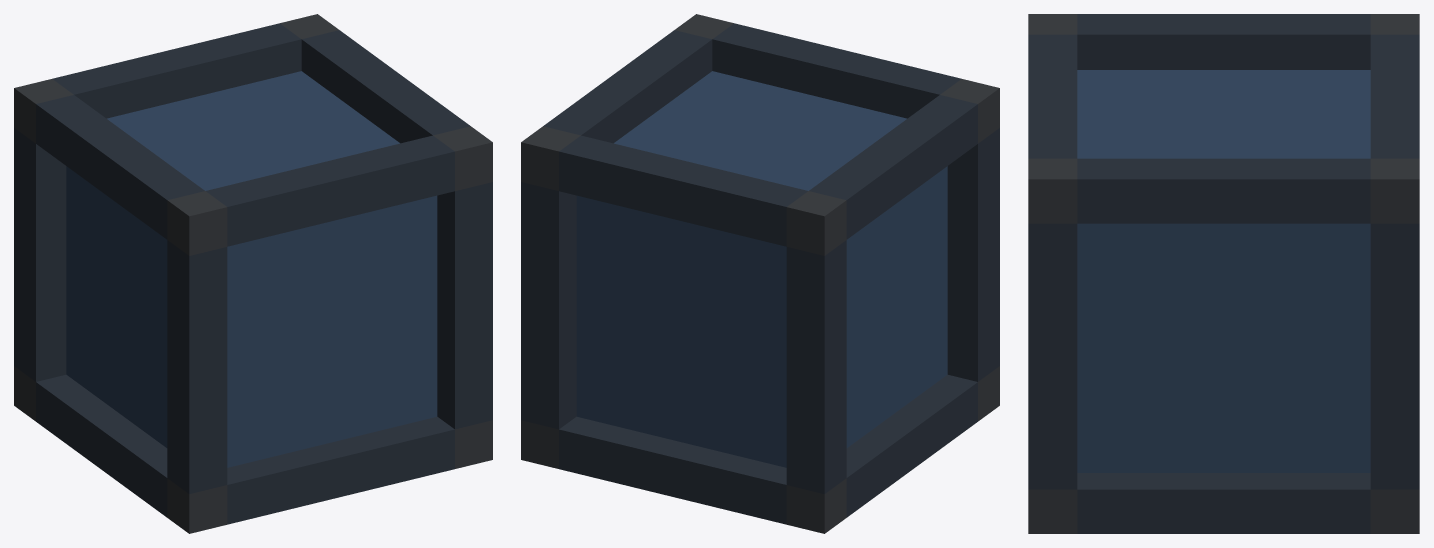
Rendered from Crate.fbx.
The picture shows the model from 3 angles, left to right: view 1: azimuth 30°, elevation 25°; view 2: azimuth 150°, elevation 25°; view 3: azimuth 270°, elevation 25°; orthographic projection. The views are drawn at different scales.
Parts seen in each view (by area): view 1: Crate; view 2: Crate; view 3: Crate.
Boxes of the visible parts, x1=… form: Crate: x1=14, y1=14, x2=492, y2=533; Crate: x1=521, y1=14, x2=999, y2=533; Crate: x1=1028, y1=14, x2=1419, y2=533.
Bounding box in the file's own units: 125 × 125 × 125.
